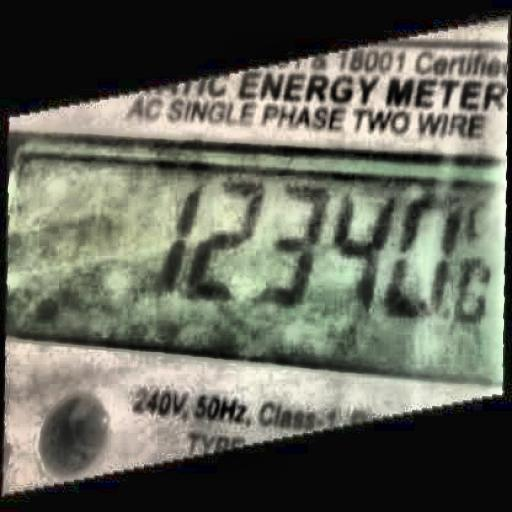SERIAL_REGION: (154, 180, 503, 331)
